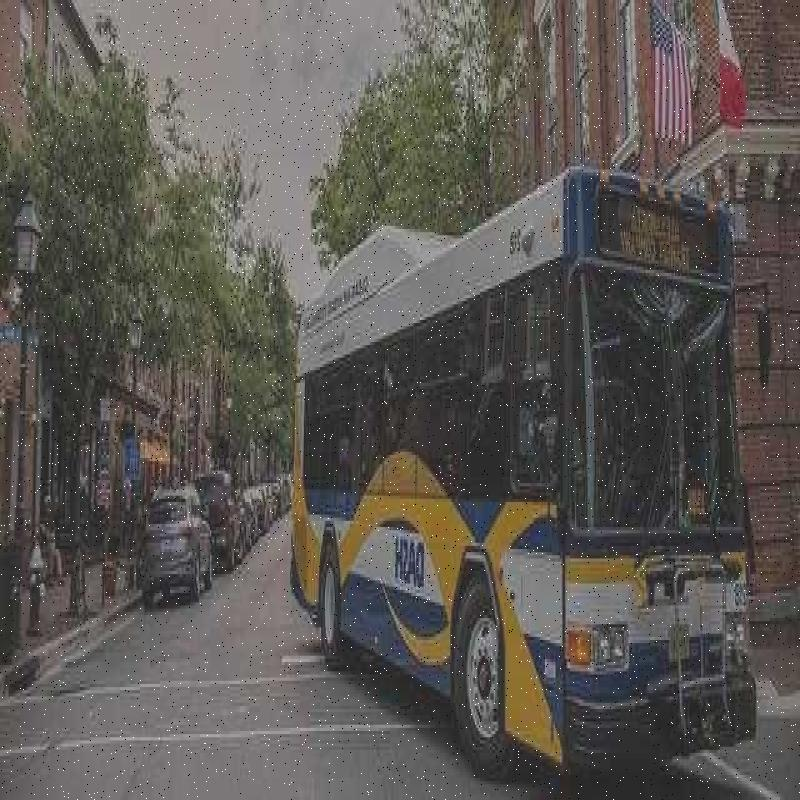bus: (248, 153, 754, 800)
